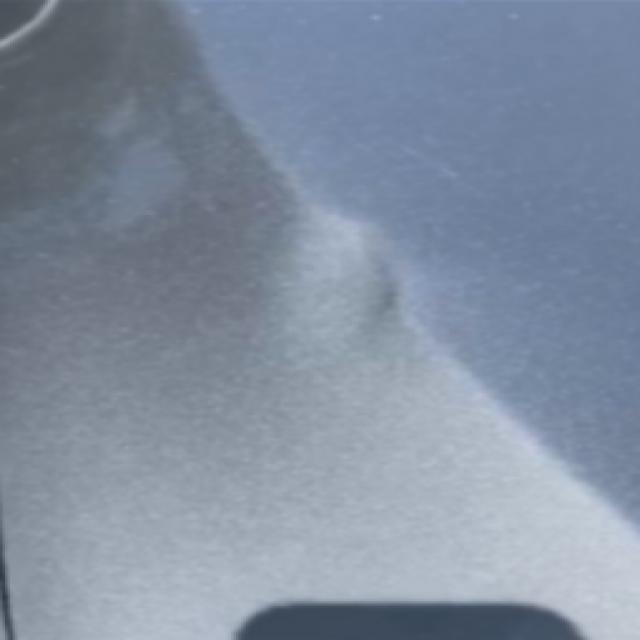dents: (268, 204, 444, 380)
